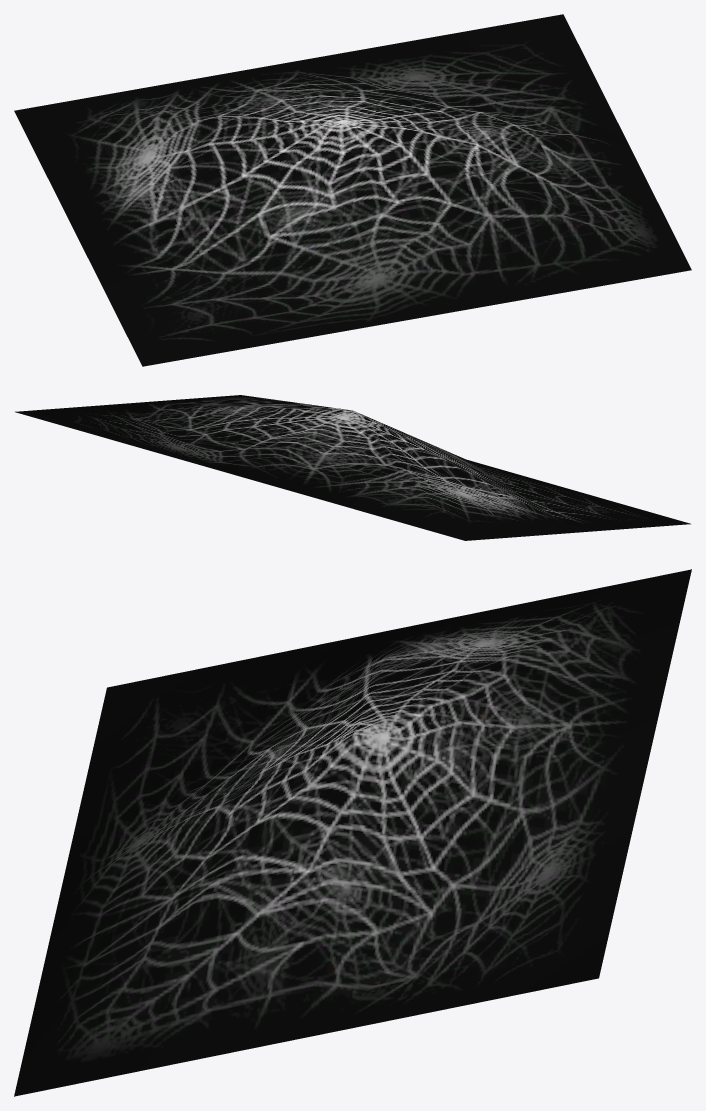
Rendered from MIRKWOOD_PLANE15.fbx.
The picture shows the model from 3 angles, top to bottom: view 1: azimuth 30°, elevation 25°; view 2: azimuth 150°, elevation 25°; view 3: azimuth 270°, elevation 25°; orthographic projection. The views are drawn at different scales.
Visible parts, largest first — view 1: MIRKWOOD_PLANE15; view 2: MIRKWOOD_PLANE15; view 3: MIRKWOOD_PLANE15.
Part boxes in pixels (x1,y1,x2,y2): MIRKWOOD_PLANE15: (14,14,691,366); MIRKWOOD_PLANE15: (15,395,690,540); MIRKWOOD_PLANE15: (14,569,691,1096).
Size of the model in its own units: 181704 by 35679 by 118135.
Materials: 1 (1 with a texture image).
